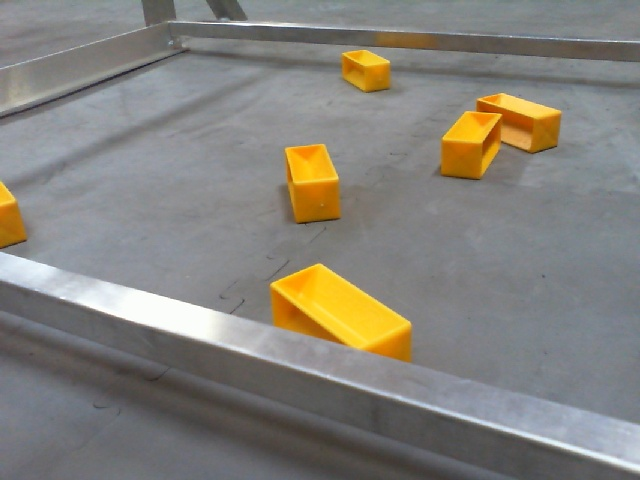YellowSample: (268, 262, 418, 369), (475, 91, 562, 156), (279, 141, 343, 223), (434, 107, 500, 182), (338, 46, 392, 94), (1, 172, 32, 248)
